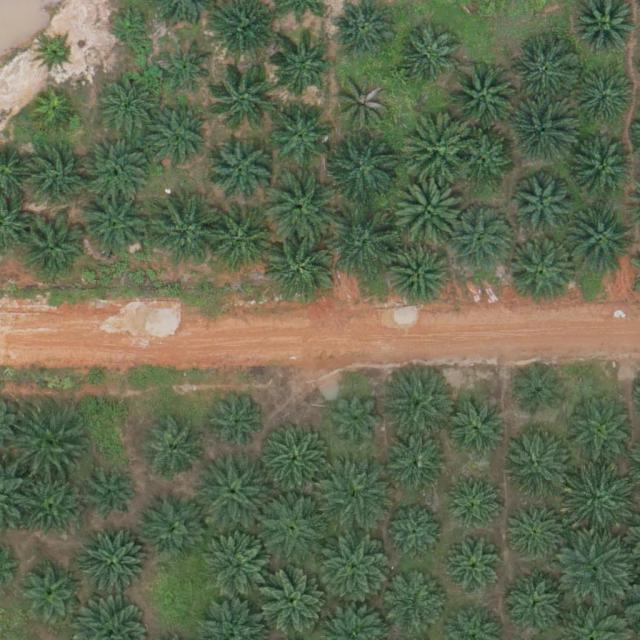Dead: (338, 79, 392, 134)
Healthy: (321, 535, 392, 606), (257, 569, 328, 640), (257, 426, 328, 497), (509, 235, 580, 306), (321, 463, 392, 533), (257, 493, 327, 564), (204, 532, 274, 603), (81, 529, 151, 600), (16, 412, 86, 483), (564, 396, 634, 467), (498, 430, 568, 501), (384, 365, 454, 436), (564, 205, 634, 276), (332, 209, 402, 280), (266, 172, 336, 243), (266, 235, 337, 305), (211, 61, 281, 132), (82, 135, 152, 206), (80, 190, 150, 261), (147, 196, 217, 267), (202, 457, 272, 527), (563, 468, 633, 538), (560, 539, 630, 609), (509, 97, 579, 167), (449, 62, 519, 132), (401, 114, 471, 184), (393, 175, 463, 245), (329, 134, 399, 204), (204, 208, 274, 278), (19, 215, 89, 285), (140, 499, 203, 562), (20, 562, 83, 625), (512, 178, 575, 241), (450, 206, 513, 269), (269, 38, 332, 101), (269, 102, 332, 165), (97, 75, 160, 138), (145, 108, 208, 171), (25, 149, 88, 212), (206, 391, 268, 454), (20, 474, 82, 537), (507, 574, 569, 637), (445, 535, 507, 598), (442, 471, 505, 533), (385, 434, 447, 497), (575, 69, 638, 131), (514, 44, 577, 106), (397, 25, 459, 88), (387, 245, 450, 307), (208, 139, 270, 202), (143, 422, 205, 484), (447, 394, 509, 456), (573, 141, 635, 203), (512, 363, 567, 418), (508, 505, 563, 560), (457, 133, 512, 188), (160, 42, 215, 97), (332, 393, 386, 448), (86, 468, 140, 523), (391, 508, 445, 563)
Small: (108, 4, 155, 51), (36, 35, 75, 75)
Yellow: (31, 90, 78, 137)
